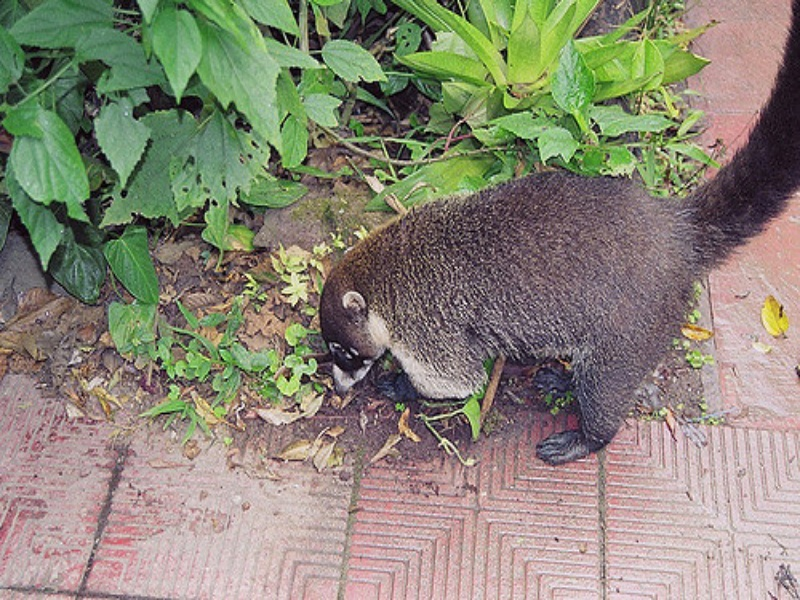raccoon: (315, 13, 800, 467)
